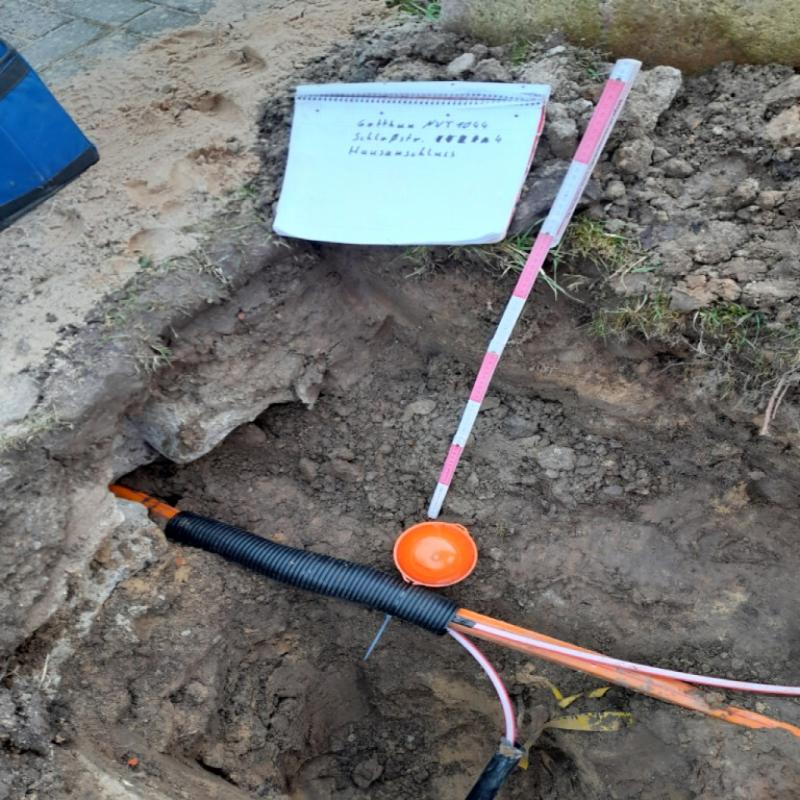Kugelmarker: (394, 524, 472, 589)
Orang-Speednetrohrchen: (109, 486, 778, 732)
